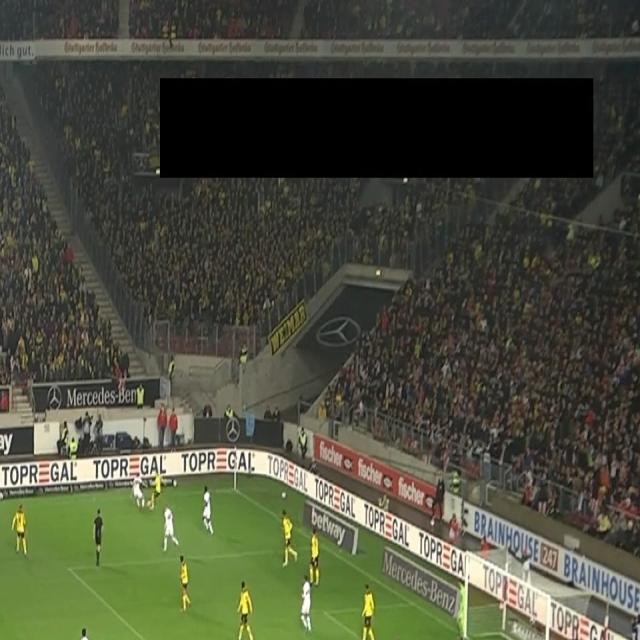ball: (146, 498, 152, 509)
